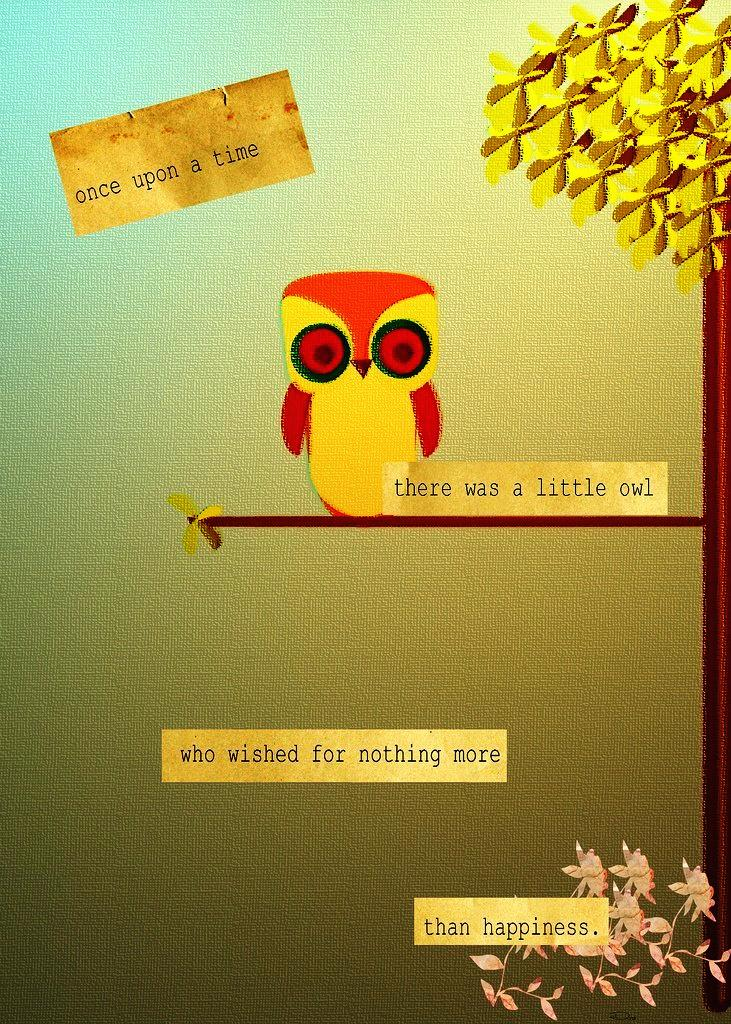Owl: (279, 271, 440, 510)
